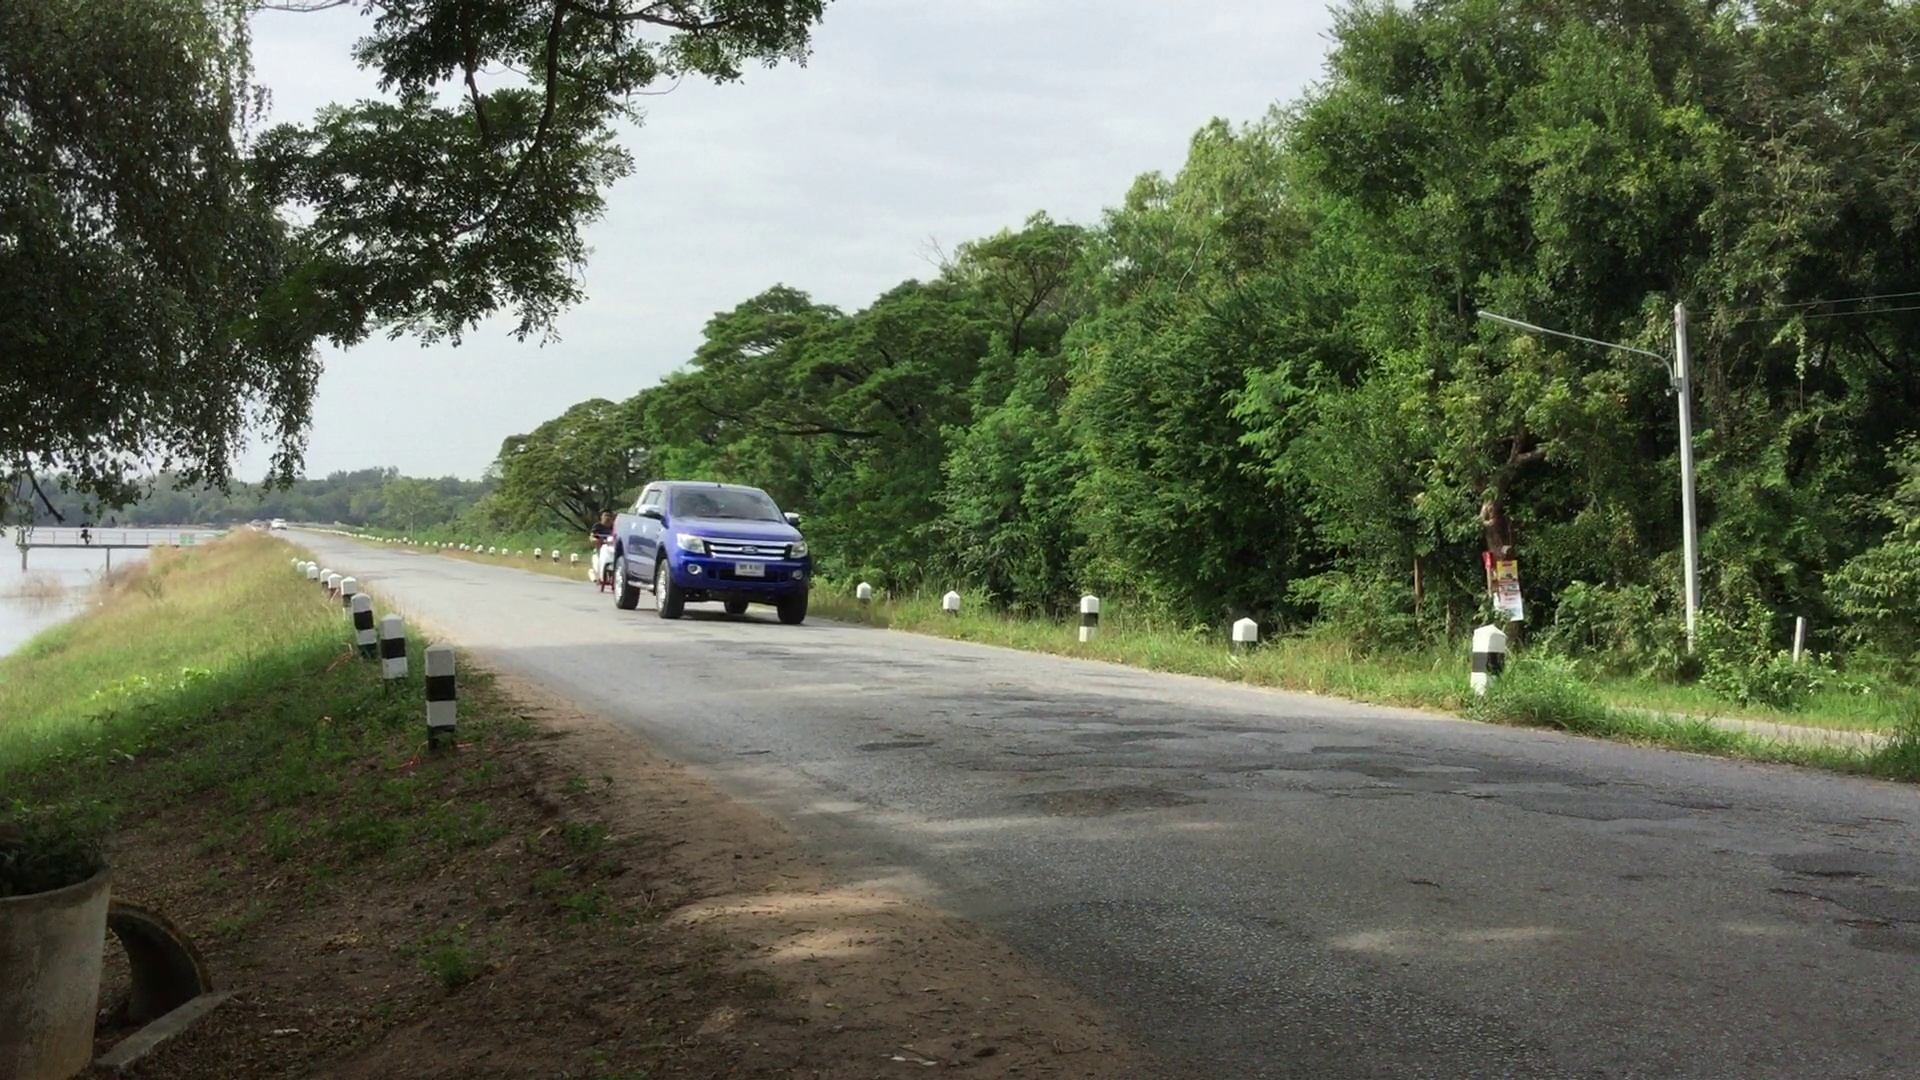car: (615, 483, 812, 625)
person: (587, 512, 617, 584)
